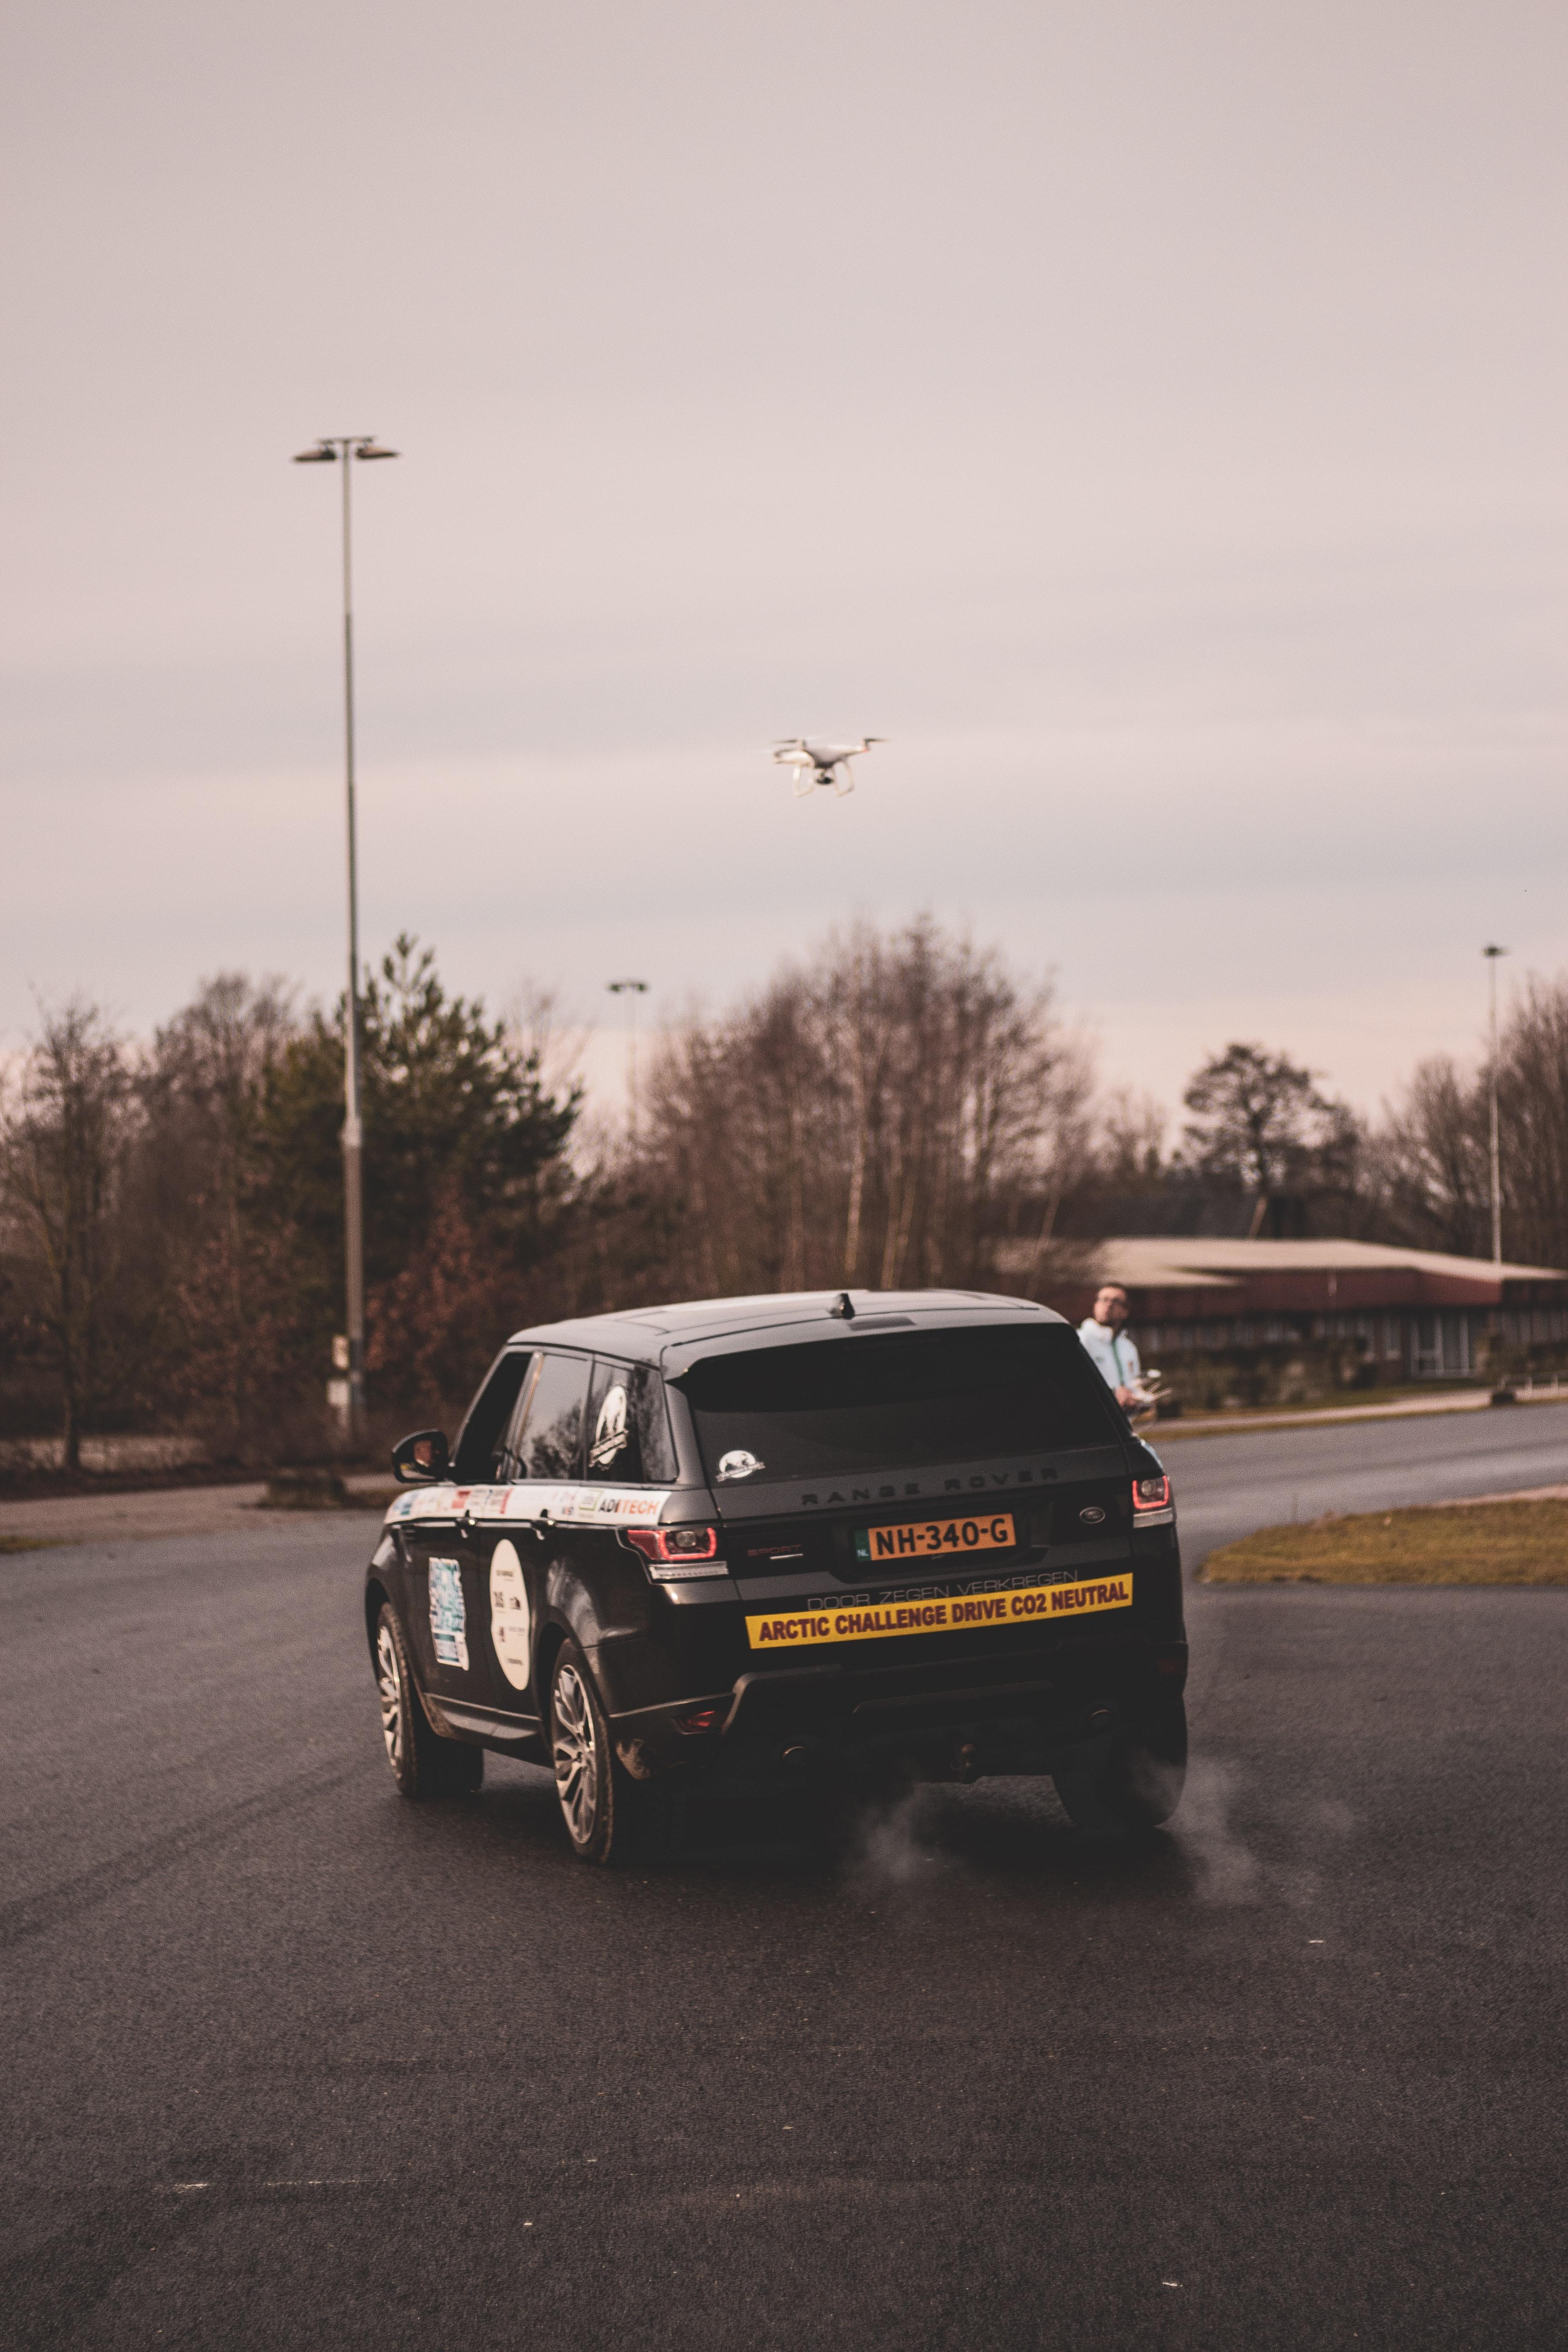range rover: (791, 1452, 1083, 1517)
